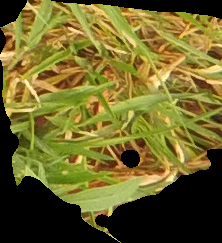grass: (1, 1, 220, 242)
